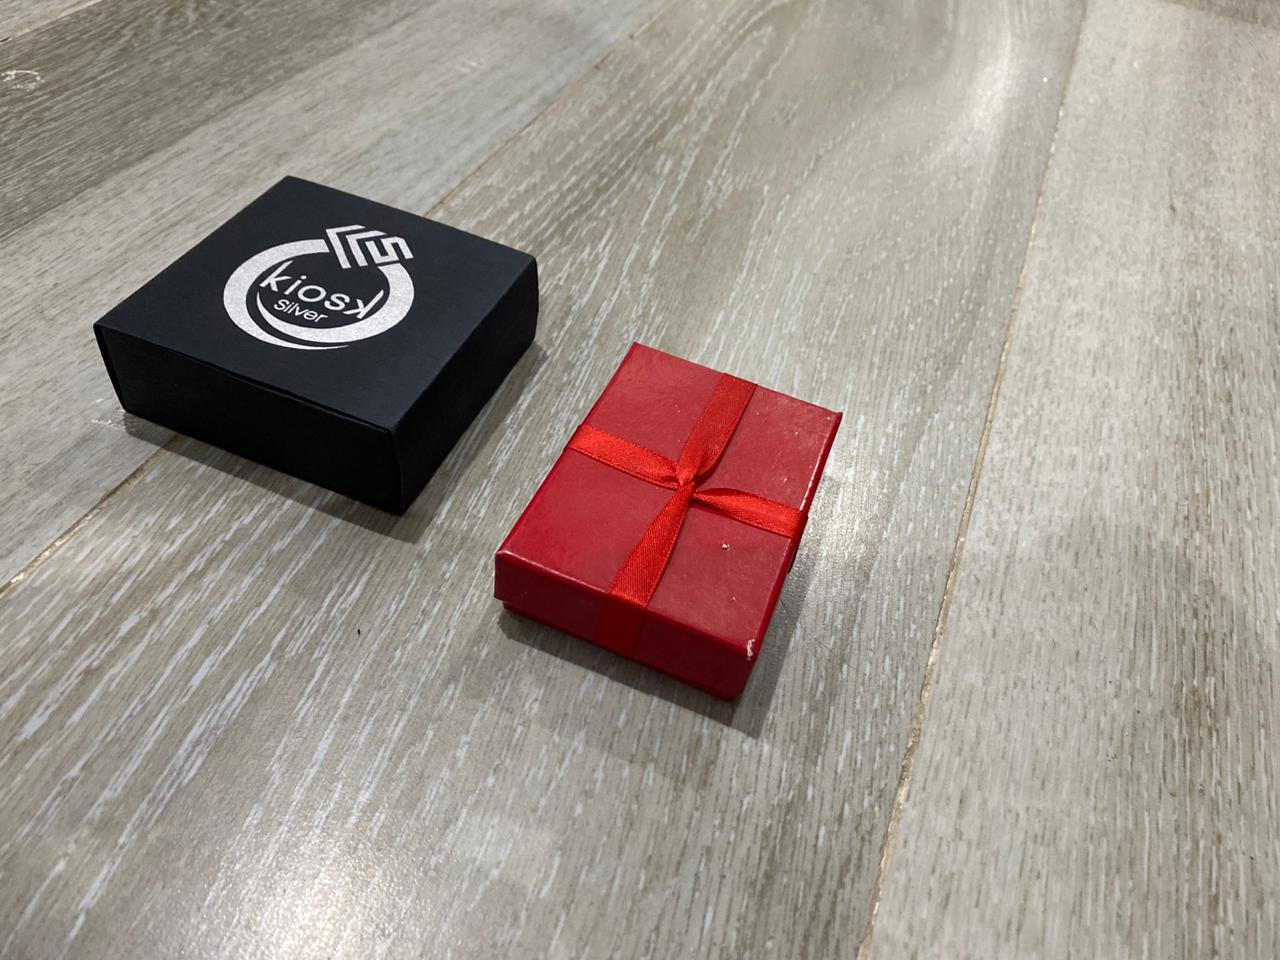Black Box: (492, 340, 844, 704)
Red Box: (93, 171, 543, 514)
